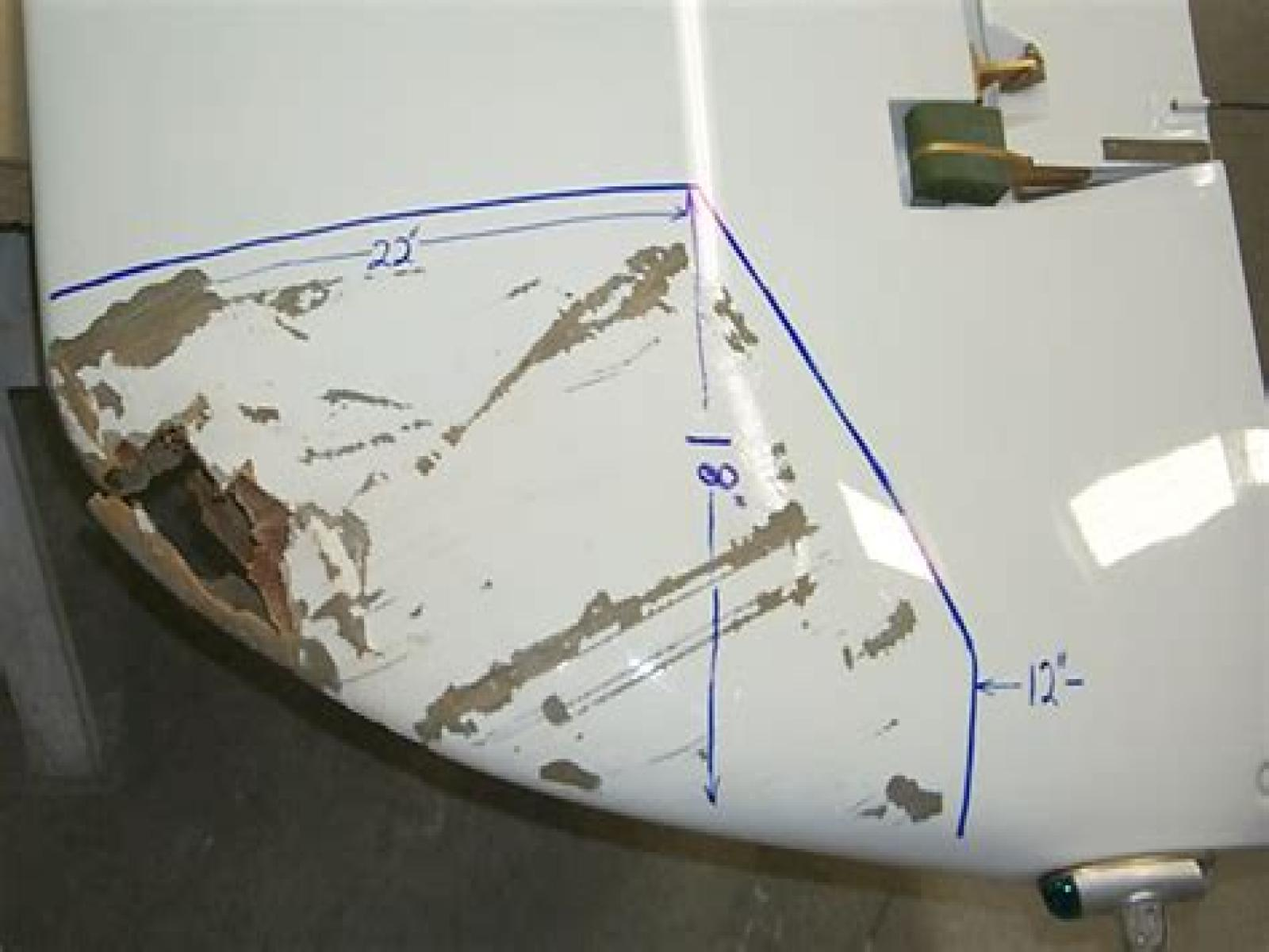Skin_Cover: (91, 396, 294, 649), (477, 246, 683, 413), (51, 270, 225, 369)
